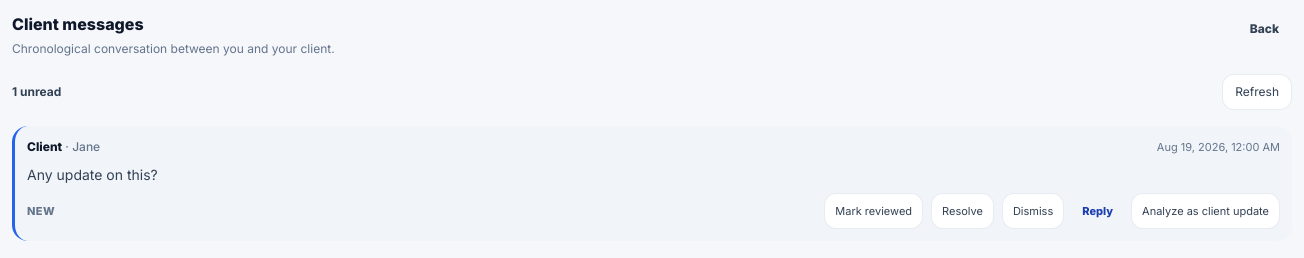
Test: ClientCommunicationHistoryModal - explicit status actions › 51. a successful status change refetches/refreshes the data
Expected: the text "New" is shown, left=27, top=203, right=55, bottom=219
Click the button "Mark reviewed" at [874, 211], box left=824, top=193, right=923, bottom=229
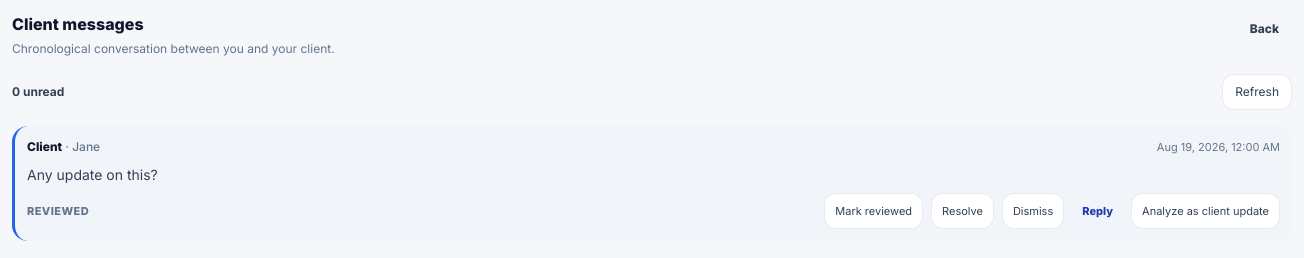
Now the text "0 unread" is shown, box left=12, top=83, right=64, bottom=101
